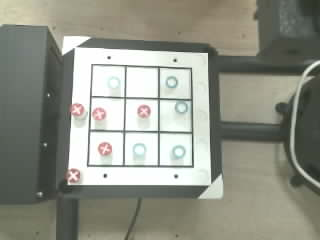blue circle: (172, 145, 185, 158), (133, 143, 146, 156), (175, 101, 187, 113), (166, 76, 177, 88), (108, 76, 119, 88)
board: (66, 46, 214, 185)
cells: (89, 132, 122, 165), (90, 98, 124, 130), (125, 133, 157, 165), (159, 134, 191, 165), (92, 65, 124, 96), (126, 99, 157, 130), (160, 100, 191, 131), (126, 67, 158, 97), (160, 68, 190, 98)
grid: (87, 64, 193, 167)
red cross: (66, 168, 80, 182), (92, 107, 106, 120), (70, 103, 84, 116), (137, 104, 150, 117), (98, 142, 111, 155)
